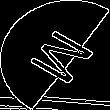M_SE: (15, 22, 95, 88)
